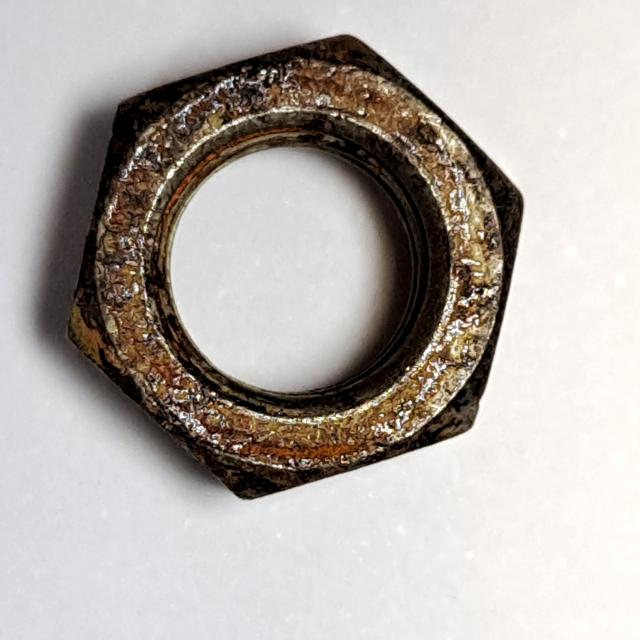Rust: (47, 19, 538, 511)
